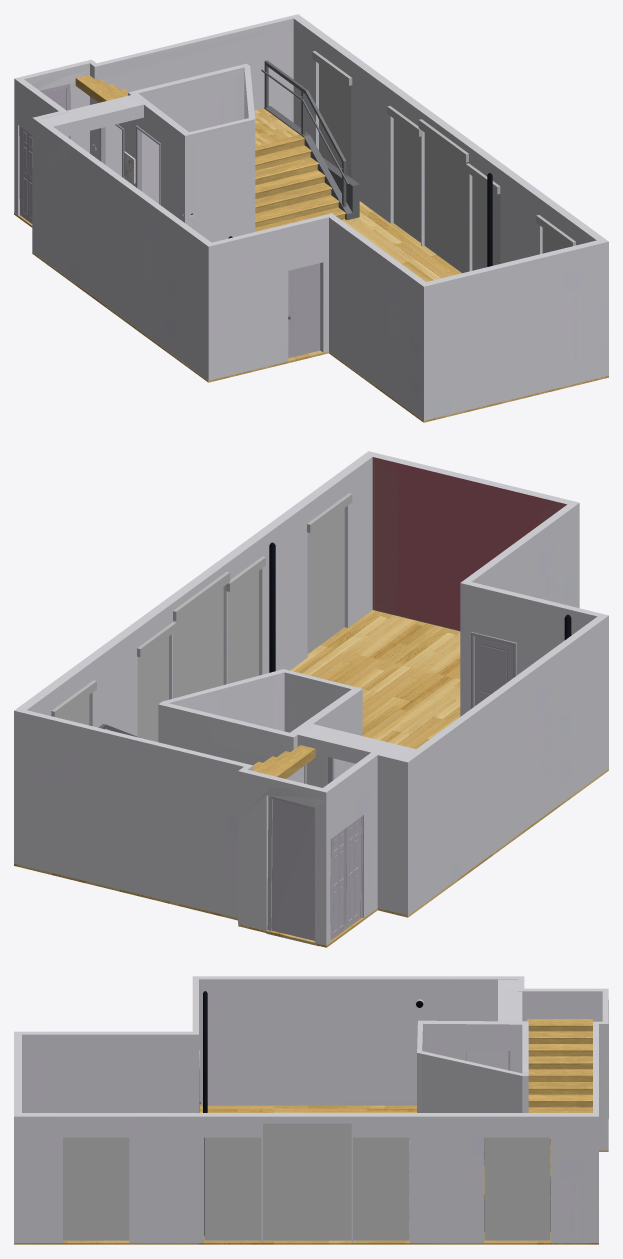
Rendered from Stage_v3_sc4_staging.glb.
The picture shows the model from 3 angles, top to bottom: view 1: azimuth 30°, elevation 25°; view 2: azimuth 150°, elevation 25°; view 3: azimuth 270°, elevation 25°; orthographic projection. The views are drawn at different scales.
Visible parts, largest first — view 1: frl_apartment_wall_arch, frl_apartment_blinds.001, frl_apartment_stair.001, frl_apartment_floor.001, frl_apartment_door_01.001, frl_apartment_door_05.001, frl_apartment_pipe.001, frl_apartment_door_part.005; view 2: frl_apartment_wall_arch, frl_apartment_blinds.001, frl_apartment_floor.001, frl_apartment_door_04.001, frl_apartment_door_01.001, frl_apartment_door_05.001, frl_apartment_door_06.001, frl_apartment_stair.001, frl_apartment_pipe.001, frl_apartment_door_part.003; view 3: frl_apartment_wall_arch, frl_apartment_blinds.001, frl_apartment_stair.001, frl_apartment_floor.001, frl_apartment_pipe.001.
Part boxes in pixels (<box>): frl_apartment_wall_arch: <box>14,14,608,420</box>; frl_apartment_blinds.001: <box>312,51,575,273</box>; frl_apartment_stair.001: <box>75,60,359,231</box>; frl_apartment_floor.001: <box>14,201,608,422</box>; frl_apartment_door_01.001: <box>288,263,319,358</box>; frl_apartment_door_05.001: <box>21,127,32,223</box>; frl_apartment_pipe.001: <box>228,173,492,266</box>; frl_apartment_door_part.005: <box>136,125,160,205</box>; frl_apartment_wall_arch: <box>14,451,608,945</box>; frl_apartment_blinds.001: <box>51,493,352,741</box>; frl_apartment_floor.001: <box>14,610,608,947</box>; frl_apartment_door_04.001: <box>271,799,314,940</box>; frl_apartment_door_01.001: <box>474,636,513,705</box>; frl_apartment_door_05.001: <box>330,828,346,939</box>; frl_apartment_door_06.001: <box>346,817,361,928</box>; frl_apartment_stair.001: <box>98,724,315,778</box>; frl_apartment_pipe.001: <box>269,542,571,672</box>; frl_apartment_door_part.003: <box>266,796,318,946</box>; frl_apartment_wall_arch: <box>14,976,608,1242</box>; frl_apartment_blinds.001: <box>63,1123,550,1240</box>; frl_apartment_stair.001: <box>484,1019,592,1231</box>; frl_apartment_floor.001: <box>14,1105,608,1244</box>; frl_apartment_pipe.001: <box>203,991,207,1235</box>.
Size of the model in its own units: 7.26 by 3.13 by 13.
10 materials, 9 textured.
